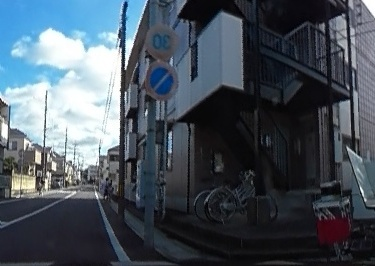person: (102, 177, 111, 199)
